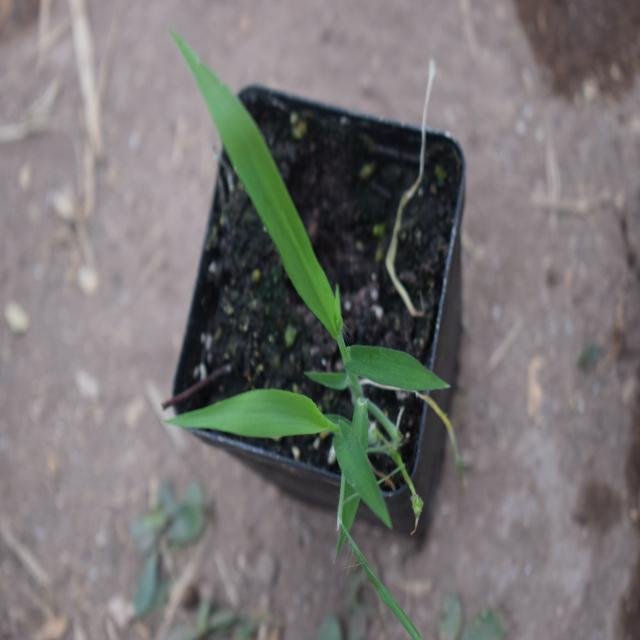crabgrass: (153, 38, 430, 524)
